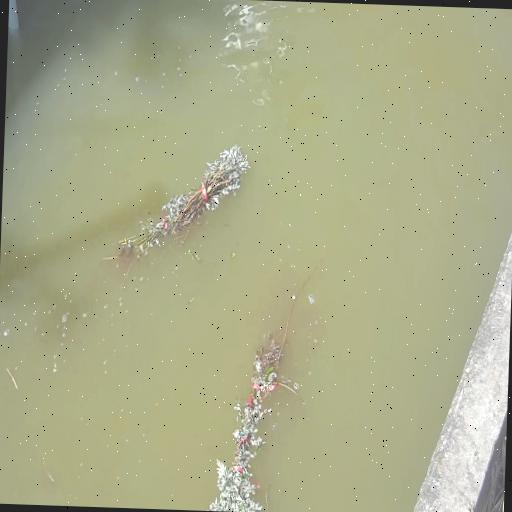twig: (209, 241, 332, 511), (106, 145, 250, 259)
